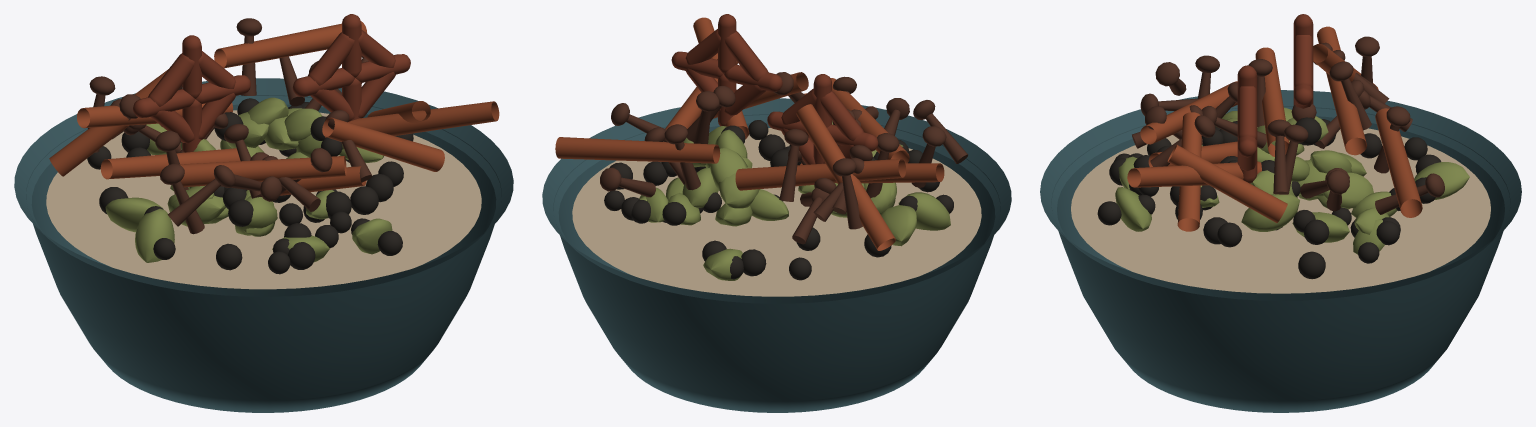
The model's file is garam-masala.glb.
3 renders of one model, left to right at view 1: azimuth 30°, elevation 25°; view 2: azimuth 150°, elevation 25°; view 3: azimuth 270°, elevation 25°, orthographic. The views are drawn at different scales.
Parts seen in each view (by area): view 1: outer-bowl, inner-bowl, bowl-rim, star-anise-1, star-anise-2, cinnamon-quill-6, cinnamon-quill-3, cinnamon-quill-1, cinnamon-quill-8, cinnamon-quill-5, cinnamon-quill-9, cardamom-pod-10 (+30 smaller); view 2: outer-bowl, inner-bowl, bowl-rim, star-anise-2, star-anise-1, cinnamon-quill-3, cinnamon-quill-9, cinnamon-quill-7, cardamom-pod-10, cinnamon-quill-6, clove-8, clove-1 (+32 smaller); view 3: outer-bowl, inner-bowl, bowl-rim, cinnamon-quill-4, star-anise-2, cinnamon-quill-3, star-anise-1, cinnamon-quill-7, cinnamon-quill-1, cinnamon-quill-8, cinnamon-quill-5, cinnamon-quill-6 (+32 smaller).
Boxes of the visible parts, bbox=[...] form: outer-bowl: bbox=[26, 95, 501, 412]; inner-bowl: bbox=[46, 110, 481, 289]; bowl-rim: bbox=[14, 78, 513, 296]; star-anise-1: bbox=[133, 35, 250, 152]; star-anise-2: bbox=[292, 14, 410, 121]; cinnamon-quill-6: bbox=[179, 156, 346, 187]; cinnamon-quill-3: bbox=[214, 21, 367, 68]; cinnamon-quill-1: bbox=[325, 101, 499, 143]; cinnamon-quill-8: bbox=[322, 117, 444, 171]; cinnamon-quill-5: bbox=[100, 148, 240, 179]; cinnamon-quill-9: bbox=[49, 69, 168, 176]; cardamom-pod-10: bbox=[135, 208, 174, 262]; outer-bowl: bbox=[553, 114, 1000, 412]; inner-bowl: bbox=[572, 128, 981, 296]; bowl-rim: bbox=[542, 98, 1011, 303]; star-anise-2: bbox=[671, 14, 782, 126]; star-anise-1: bbox=[767, 74, 878, 164]; cinnamon-quill-3: bbox=[555, 137, 720, 163]; cinnamon-quill-9: bbox=[796, 104, 895, 250]; cinnamon-quill-7: bbox=[735, 159, 905, 190]; cardamom-pod-10: bbox=[898, 192, 950, 230]; cinnamon-quill-6: bbox=[831, 78, 909, 163]; clove-8: bbox=[832, 158, 862, 229]; clove-1: bbox=[779, 129, 808, 201]; outer-bowl: bbox=[1051, 106, 1510, 412]; inner-bowl: bbox=[1071, 128, 1490, 293]; bowl-rim: bbox=[1040, 90, 1521, 300]; cinnamon-quill-4: bbox=[1167, 145, 1287, 222]; star-anise-2: bbox=[1237, 65, 1257, 183]; cinnamon-quill-3: bbox=[1375, 108, 1422, 217]; star-anise-1: bbox=[1293, 14, 1313, 108]; cinnamon-quill-7: bbox=[1317, 26, 1366, 155]; cinnamon-quill-1: bbox=[1127, 161, 1261, 187]; cinnamon-quill-8: bbox=[1177, 112, 1201, 231]; cinnamon-quill-5: bbox=[1255, 47, 1289, 156]; cinnamon-quill-6: bbox=[1140, 81, 1237, 144].
Size of the model in its own units: 1.72 by 1.23 by 1.72.
